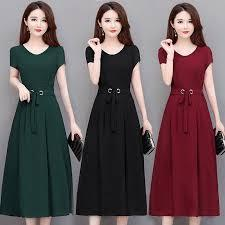dress: (72, 39, 152, 223), (152, 40, 225, 223), (2, 43, 75, 221)
